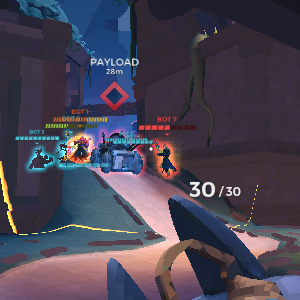model: (69, 133, 97, 168), (154, 141, 179, 177)
